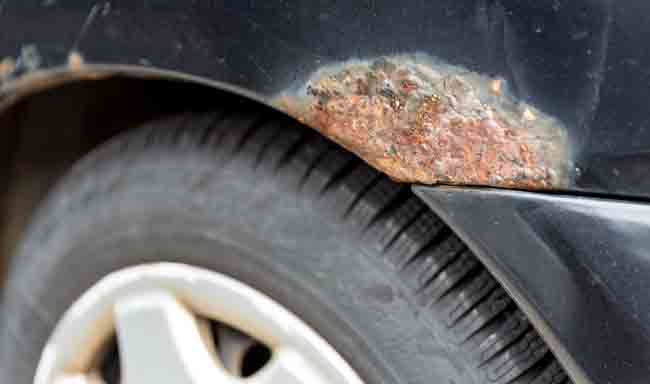rust: (276, 63, 573, 192)
